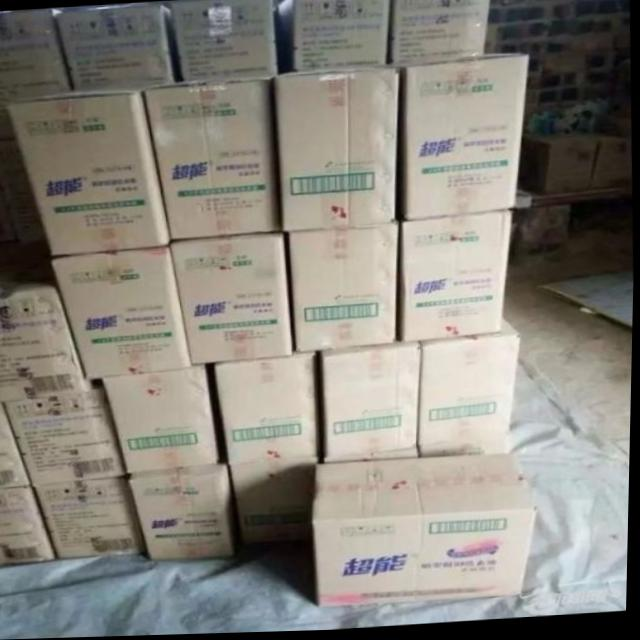box: (314, 456, 540, 607), (7, 92, 171, 254), (398, 55, 528, 223), (143, 83, 280, 241), (274, 65, 397, 231), (53, 248, 194, 380), (168, 235, 296, 365), (0, 241, 91, 401), (400, 212, 510, 344), (285, 226, 398, 354), (419, 319, 522, 448), (103, 366, 218, 476), (3, 389, 127, 487), (214, 354, 320, 467), (319, 345, 423, 460), (54, 4, 180, 90), (131, 466, 242, 561), (0, 10, 76, 137), (37, 474, 147, 560), (169, 0, 276, 83), (273, 0, 394, 72), (233, 459, 321, 548), (391, 0, 489, 69), (0, 136, 48, 245), (517, 138, 598, 199), (0, 487, 53, 565), (575, 138, 631, 189), (0, 413, 37, 490), (420, 439, 515, 459), (323, 450, 421, 468)
